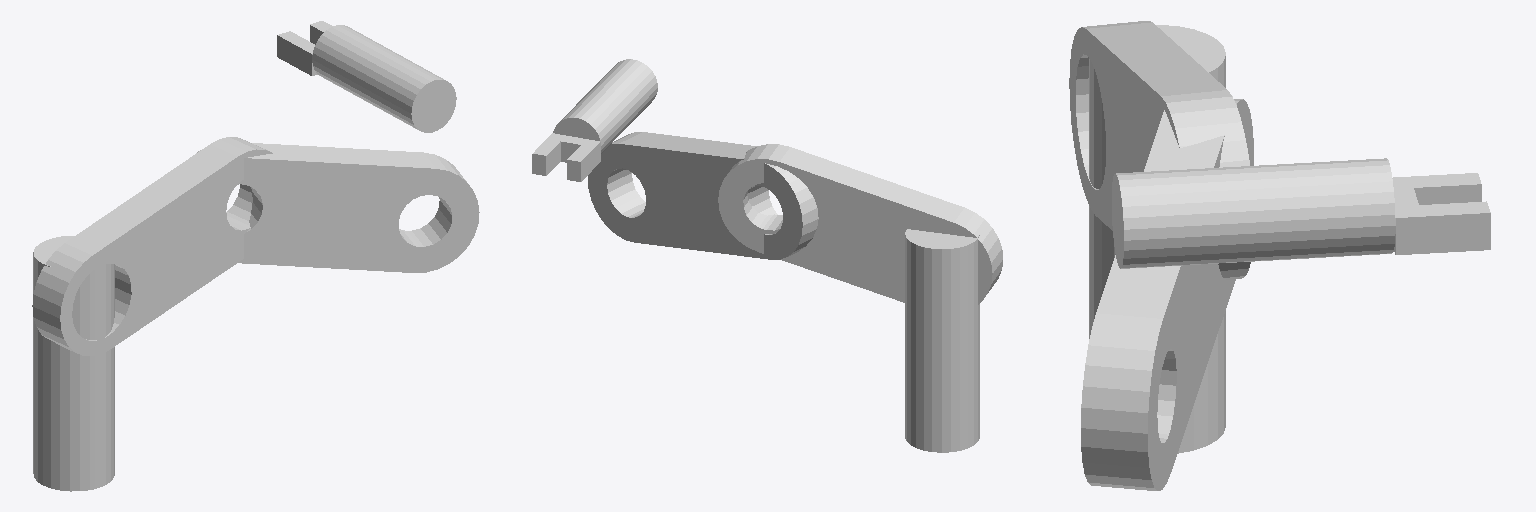
URDF robot description (scara_urdf_2):
<?xml version="1.0" encoding="utf-8"?>
<!-- This URDF was automatically created by SolidWorks to URDF Exporter! Originally created by Stephen Brawner (brawner@gmail.com) 
     Commit Version: 1.6.0-4-g7f85cfe  Build Version: 1.6.7995.38578
     For more information, please see http://wiki.ros.org/sw_urdf_exporter -->
<robot
  name="scara_urdf_2">
  <link
    name="Alvin">
    <inertial>
      <origin
        xyz="0 8.43352926117728E-18 0.15"
        rpy="0 0 0" />
      <mass
        value="2.35619449019235" />
      <inertia
        ixx="0.0191440802328128"
        ixy="-2.0909865862841E-51"
        ixz="-3.41495302512106E-35"
        iyy="0.0191440802328128"
        iyz="-9.91859943088721E-19"
        izz="0.00294524311274044" />
    </inertial>
    <visual>
      <origin
        xyz="0 0 0"
        rpy="0 0 0" />
      <geometry>
        <mesh
          filename="package://scara_urdf_2/meshes/Alvin.STL" />
      </geometry>
      <material
        name="">
        <color
          rgba="0.894117647058823 0.894117647058823 0.894117647058823 1" />
      </material>
    </visual>
    <collision>
      <origin
        xyz="0 0 0"
        rpy="0 0 0" />
      <geometry>
        <mesh
          filename="package://scara_urdf_2/meshes/Alvin.STL" />
      </geometry>
    </collision>
  </link>
  <link
    name="Simon">
    <inertial>
      <origin
        xyz="0.137940645716693 0.025 3.46944695195361E-18"
        rpy="0 0 0" />
      <mass
        value="1.9345685683984" />
      <inertia
        ixx="0.00389987261489919"
        ixy="2.02008106424183E-19"
        ixz="-5.42101086242752E-19"
        iyy="0.0215265120856496"
        iyz="-1.6137345800145E-20"
        izz="0.0184327097075831" />
    </inertial>
    <visual>
      <origin
        xyz="0 0 0"
        rpy="0 0 0" />
      <geometry>
        <mesh
          filename="package://scara_urdf_2/meshes/Simon.STL" />
      </geometry>
      <material
        name="">
        <color
          rgba="0.894117647058823 0.894117647058823 0.894117647058823 1" />
      </material>
    </visual>
    <collision>
      <origin
        xyz="0 0 0"
        rpy="0 0 0" />
      <geometry>
        <mesh
          filename="package://scara_urdf_2/meshes/Simon.STL" />
      </geometry>
    </collision>
  </link>
  <joint
    name="Simon"
    type="continuous">
    <origin
      xyz="0 0 0.25"
      rpy="1.5708 0 0.22687" />
    <parent
      link="Alvin" />
    <child
      link="Simon" />
    <axis
      xyz="0 1 0" />
    <limit
      lower="3"
      upper="0"
      effort="0"
      velocity="1.5" />
  </joint>
  <link
    name="Teodoro">
    <inertial>
      <origin
        xyz="0.125 0.0250000000000001 4.16333634234434E-17"
        rpy="0 0 0" />
      <mass
        value="2.13484510006475" />
      <inertia
        ixx="0.00412810441244396"
        ixy="4.24827345208287E-19"
        ixz="-8.72782748850831E-18"
        iyy="0.0253528113883726"
        iyz="9.64244524728694E-21"
        izz="0.0221142257676223" />
    </inertial>
    <visual>
      <origin
        xyz="0 0 0"
        rpy="0 0 0" />
      <geometry>
        <mesh
          filename="package://scara_urdf_2/meshes/Teodoro.STL" />
      </geometry>
      <material
        name="">
        <color
          rgba="0.894117647058823 0.894117647058823 0.894117647058823 1" />
      </material>
    </visual>
    <collision>
      <origin
        xyz="0 0 0"
        rpy="0 0 0" />
      <geometry>
        <mesh
          filename="package://scara_urdf_2/meshes/Teodoro.STL" />
      </geometry>
    </collision>
  </link>
  <joint
    name="Teodoro"
    type="continuous">
    <origin
      xyz="0.25 0.05 0"
      rpy="0 -0.42977 0" />
    <parent
      link="Simon" />
    <child
      link="Teodoro" />
    <axis
      xyz="0 1 0" />
    <limit
      lower="6"
      upper="-3"
      effort="0"
      velocity="1.5" />
  </joint>
  <link
    name="Dave">
    <inertial>
      <origin
        xyz="-0.000131764318892669 -0.0800900082239438 0.000996415656700236"
        rpy="0 0 0" />
      <mass
        value="0.8716902001295" />
      <inertia
        ixx="0.00285400846522637"
        ixy="1.69575824300654E-21"
        ixz="-6.36831449026069E-06"
        iyy="0.000535735247579319"
        iyz="7.94064676943184E-20"
        izz="0.00290132419498099" />
    </inertial>
    <visual>
      <origin
        xyz="0 0 0"
        rpy="0 0 0" />
      <geometry>
        <mesh
          filename="package://scara_urdf_2/meshes/Dave.STL" />
      </geometry>
      <material
        name="">
        <color
          rgba="0.894117647058823 0.894117647058823 0.894117647058823 1" />
      </material>
    </visual>
    <collision>
      <origin
        xyz="0 0 0"
        rpy="0 0 0" />
      <geometry>
        <mesh
          filename="package://scara_urdf_2/meshes/Dave.STL" />
      </geometry>
    </collision>
  </link>
  <joint
    name="Dave"
    type="prismatic">
    <origin
      xyz="0.25 0 0"
      rpy="-3.1416 -0.33438 3.1416" />
    <parent
      link="Teodoro" />
    <child
      link="Dave" />
    <axis
      xyz="0 1 0" />
    <limit
      lower="0.02"
      upper="0.17"
      effort="0"
      velocity="0.1" />
  </joint>
</robot>

--- What the picture shows (computed from the rendered views, not written in the file) ---
The picture shows the robot from 3 angles, left to right: view 1: azimuth 30°, elevation 25°; view 2: azimuth 150°, elevation 25°; view 3: azimuth 270°, elevation 25°; orthographic projection.
Model scara_urdf_2 with 4 links and 3 joints (2 continuous, 1 prismatic), rooted at Alvin, posed all joints at 0 but 1 set to mid-range because 0 is outside their limits (Dave = 0.095).
Links seen in each view (by area): view 1: Teodoro, Simon, Alvin, Dave; view 2: Simon, Teodoro, Alvin, Dave; view 3: Dave, Teodoro, Simon, Alvin.
Boxes of the visible links, left/top/right/bottom form: Teodoro: left=197, top=143, right=479, bottom=272; Simon: left=32, top=137, right=272, bottom=355; Alvin: left=33, top=236, right=114, bottom=491; Dave: left=277, top=21, right=456, bottom=132; Simon: left=718, top=144, right=1002, bottom=304; Teodoro: left=588, top=132, right=818, bottom=259; Alvin: left=905, top=229, right=979, bottom=452; Dave: left=532, top=59, right=657, bottom=181; Dave: left=1112, top=158, right=1490, bottom=268; Teodoro: left=1081, top=99, right=1253, bottom=490; Simon: left=1069, top=21, right=1250, bottom=279; Alvin: left=1089, top=25, right=1225, bottom=453.
Size in the robot's own frame: 0.6202 by 0.3077 by 0.4298 metres.
Meshes: 4 distinct files referenced, 4 mesh visuals loaded (4 binary STL).
